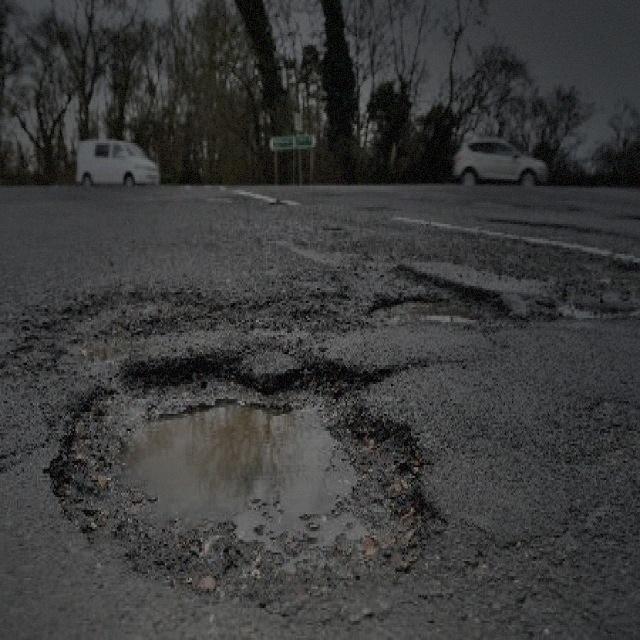pothole: (44, 348, 434, 602), (364, 260, 509, 333)
